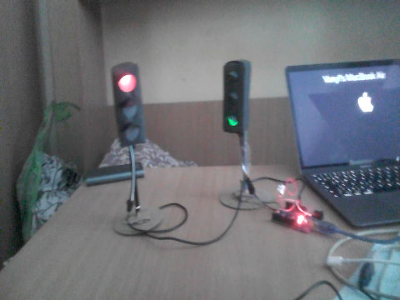trafficlight_green: (223, 63, 247, 130)
trafficlight_red: (113, 67, 144, 142)
